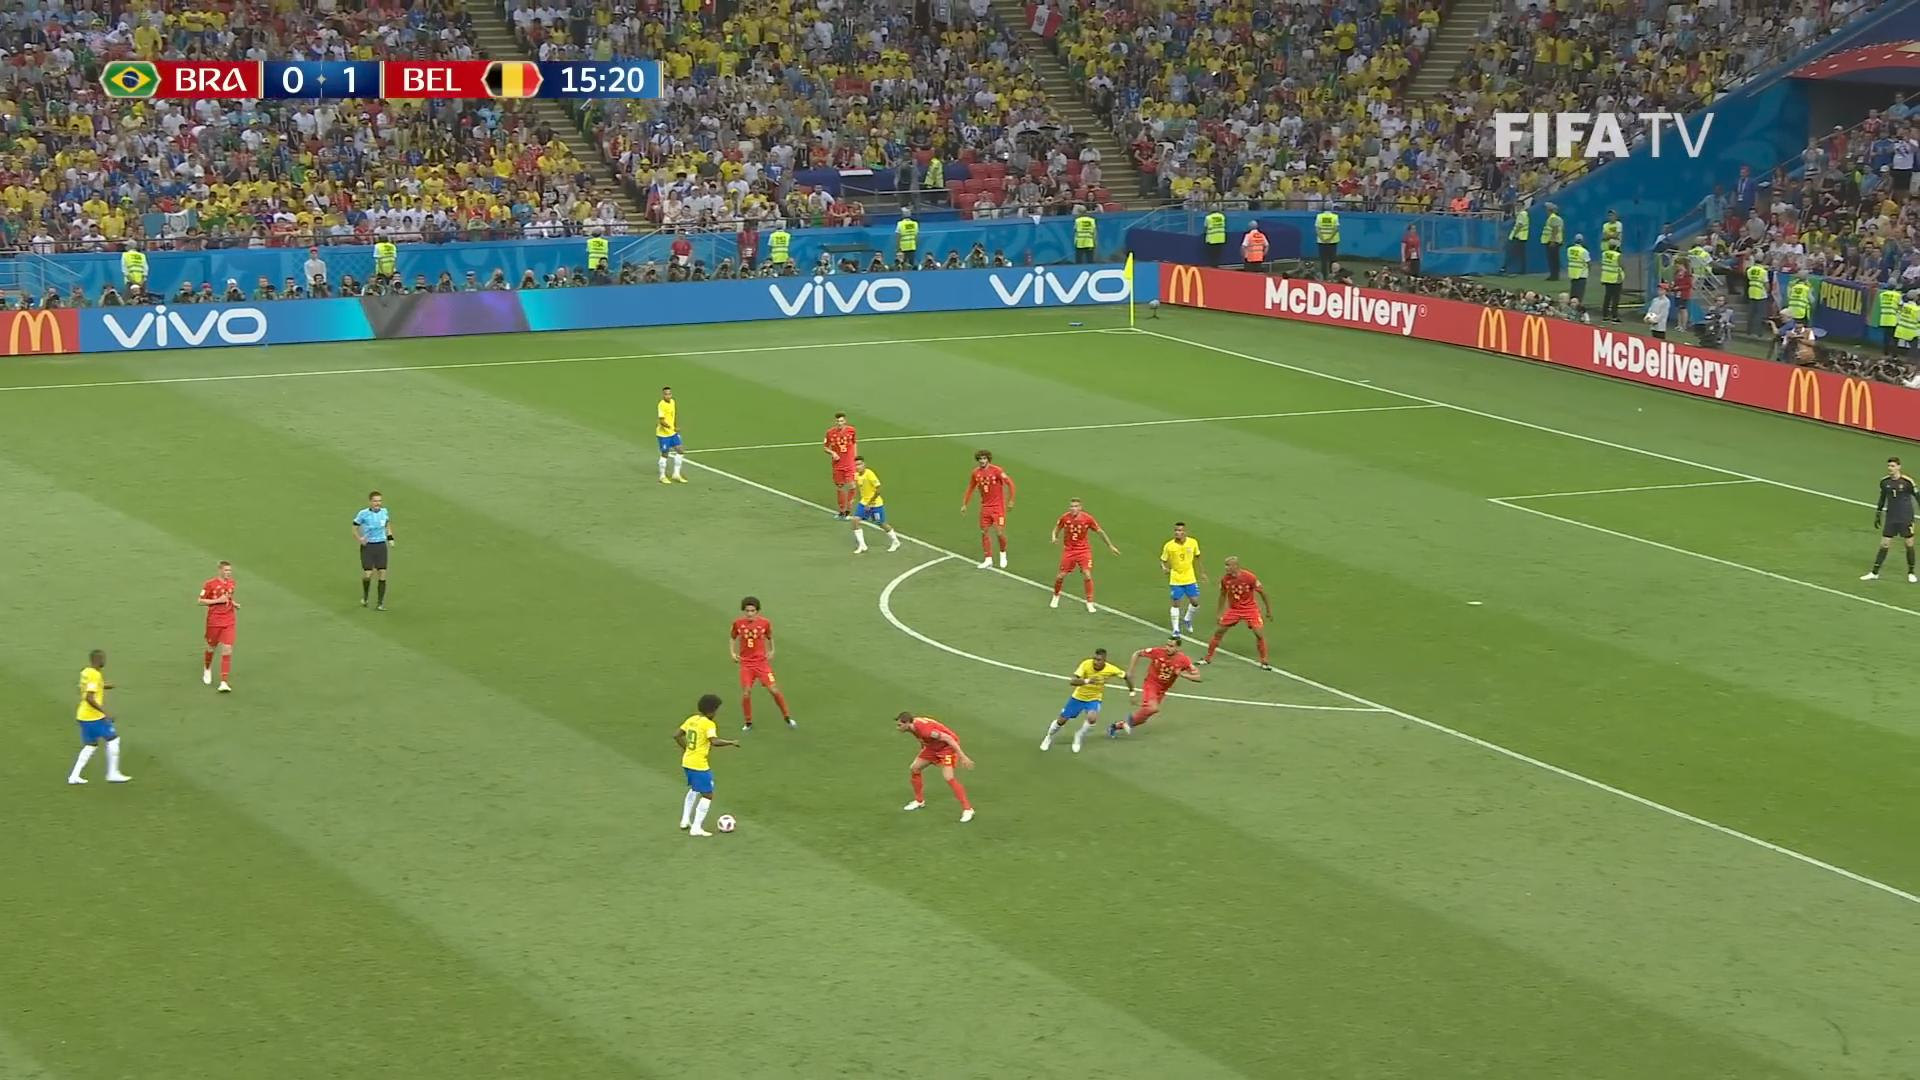ball: (716, 812, 736, 832)
goalkeeper: (1858, 453, 1918, 580)
player: (1037, 646, 1133, 753), (1106, 634, 1201, 738), (671, 693, 740, 836), (727, 595, 797, 731), (892, 709, 975, 823), (1196, 554, 1274, 671), (66, 647, 132, 784), (1047, 497, 1120, 613), (959, 448, 1015, 570), (1158, 520, 1207, 642), (196, 559, 240, 692), (847, 455, 900, 554), (821, 412, 858, 520), (653, 385, 688, 483)
referee: (351, 489, 395, 611)
